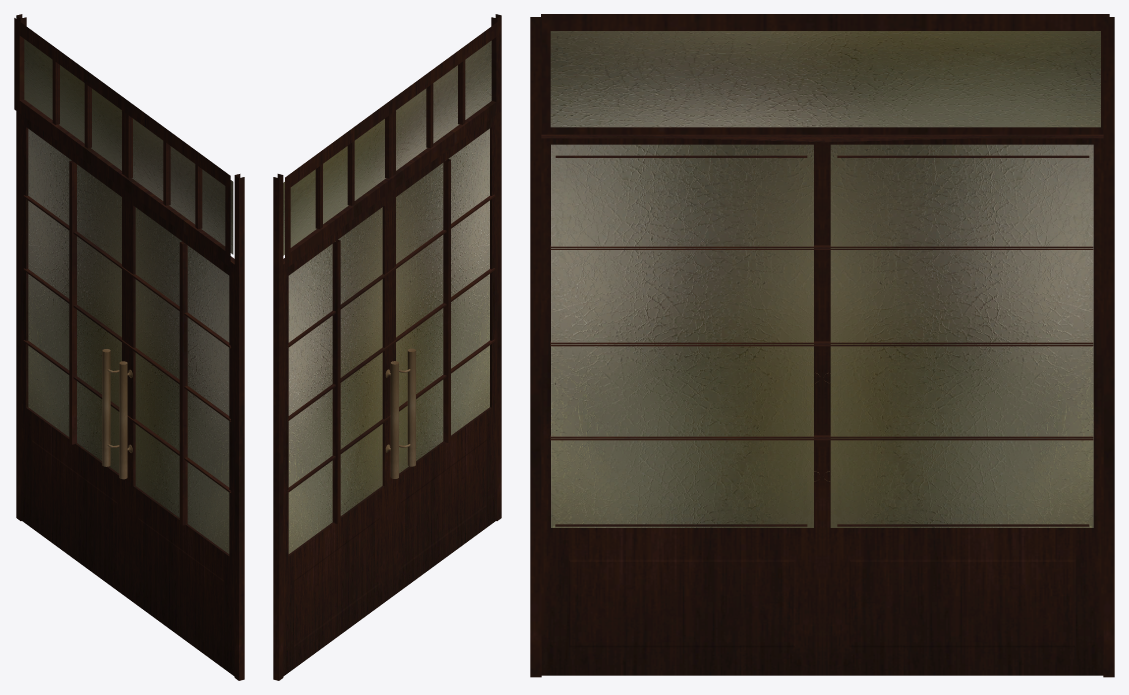
The model's file is door.fbx.
3 views of the same model, side by side, from view 1: azimuth 30°, elevation 25°; view 2: azimuth 150°, elevation 25°; view 3: azimuth 270°, elevation 25° (orthographic). The views are drawn at different scales.
Visible parts, largest first — view 1: door; view 2: door; view 3: door.
Boxes of the visible parts, box(x1,y1,x2,y2) form: door: box(14, 14, 244, 680); door: box(273, 14, 501, 680); door: box(530, 14, 1114, 677).
Size of the model in its own units: 13.96 by 279 by 224.
